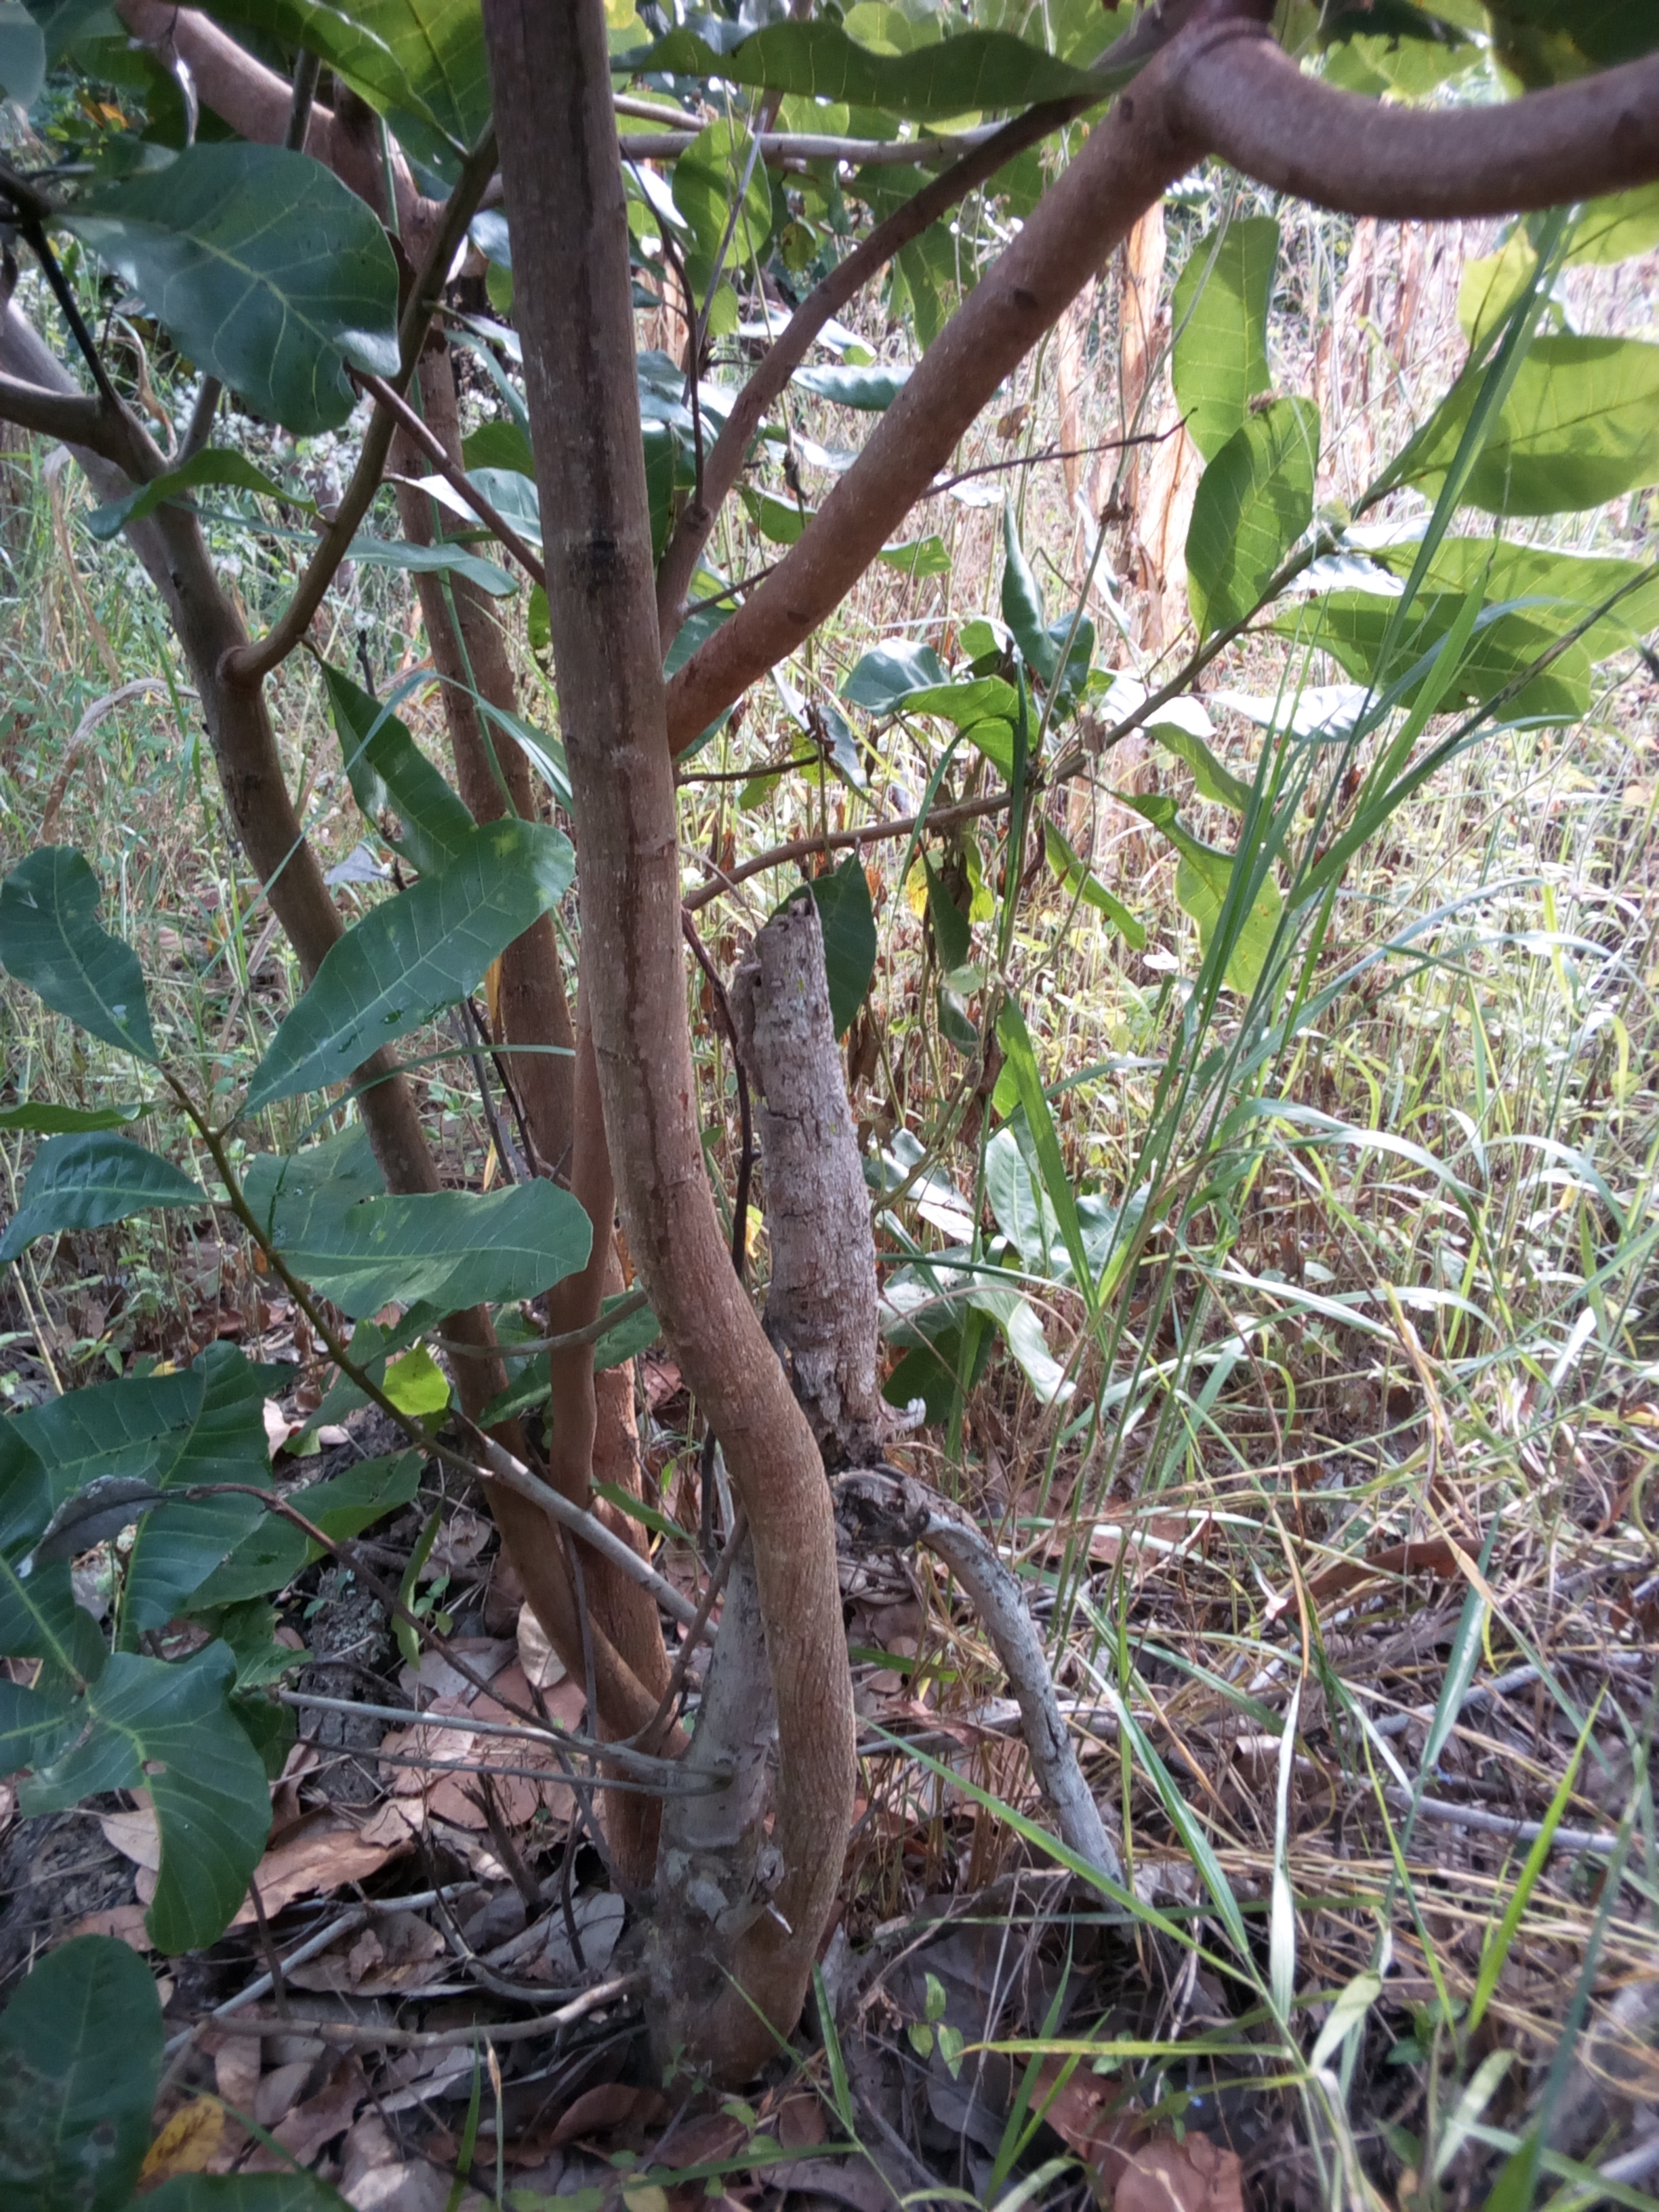Termites: (545, 45, 708, 1271)
